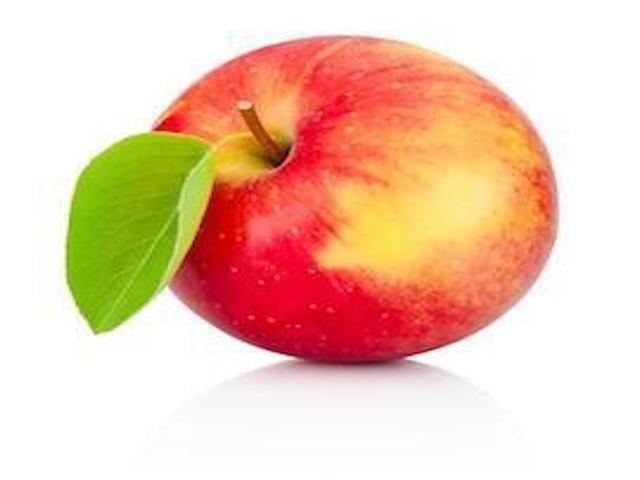apple: (61, 28, 564, 368)
